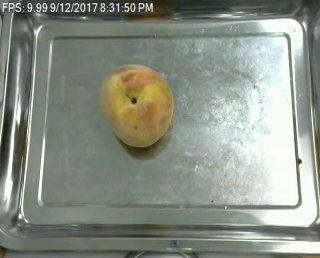Peach: (99, 63, 174, 147)
